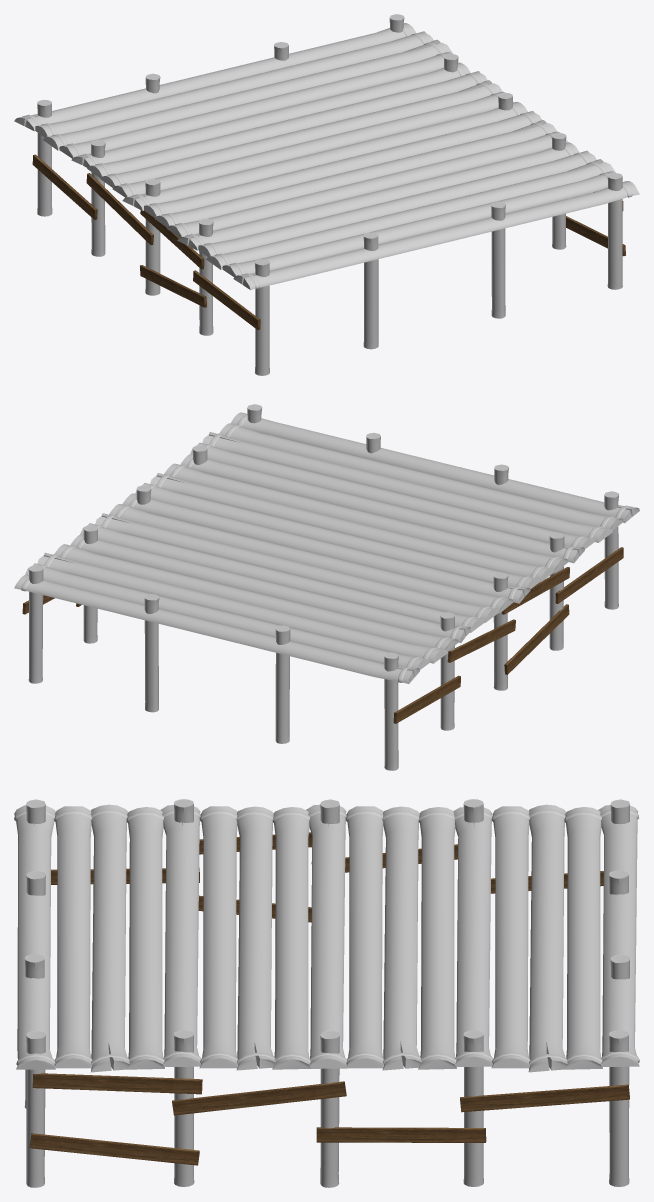
File: WoodPlatformLarge1.fbx
The picture shows the model from 3 angles, top to bottom: view 1: azimuth 30°, elevation 25°; view 2: azimuth 150°, elevation 25°; view 3: azimuth 270°, elevation 25°; orthographic projection. The views are drawn at different scales.
Visible parts, largest first — view 1: WoodPlatform4; view 2: WoodPlatform4; view 3: WoodPlatform4.
Boxes of the visible parts, x1,y1,x2,y2 form: WoodPlatform4: [14, 14, 639, 375]; WoodPlatform4: [14, 404, 639, 770]; WoodPlatform4: [14, 799, 639, 1187].
Size of the model in its own units: 9.64 by 2.56 by 9.75.
